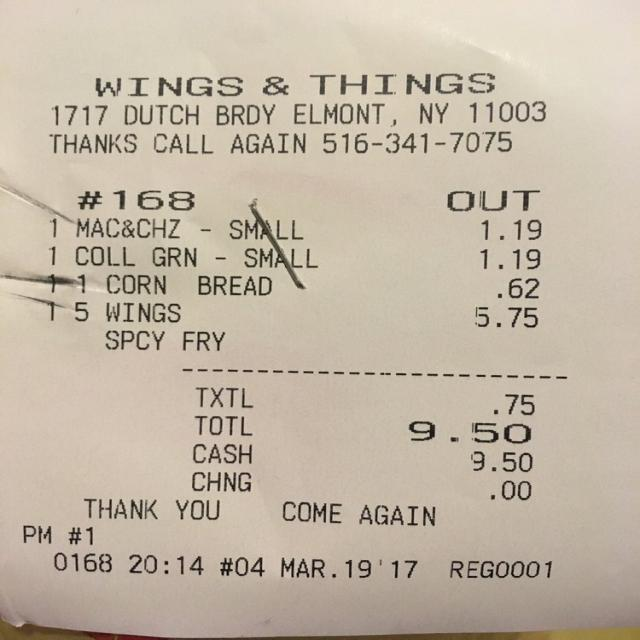TotalPrice: (184, 406, 540, 454)
